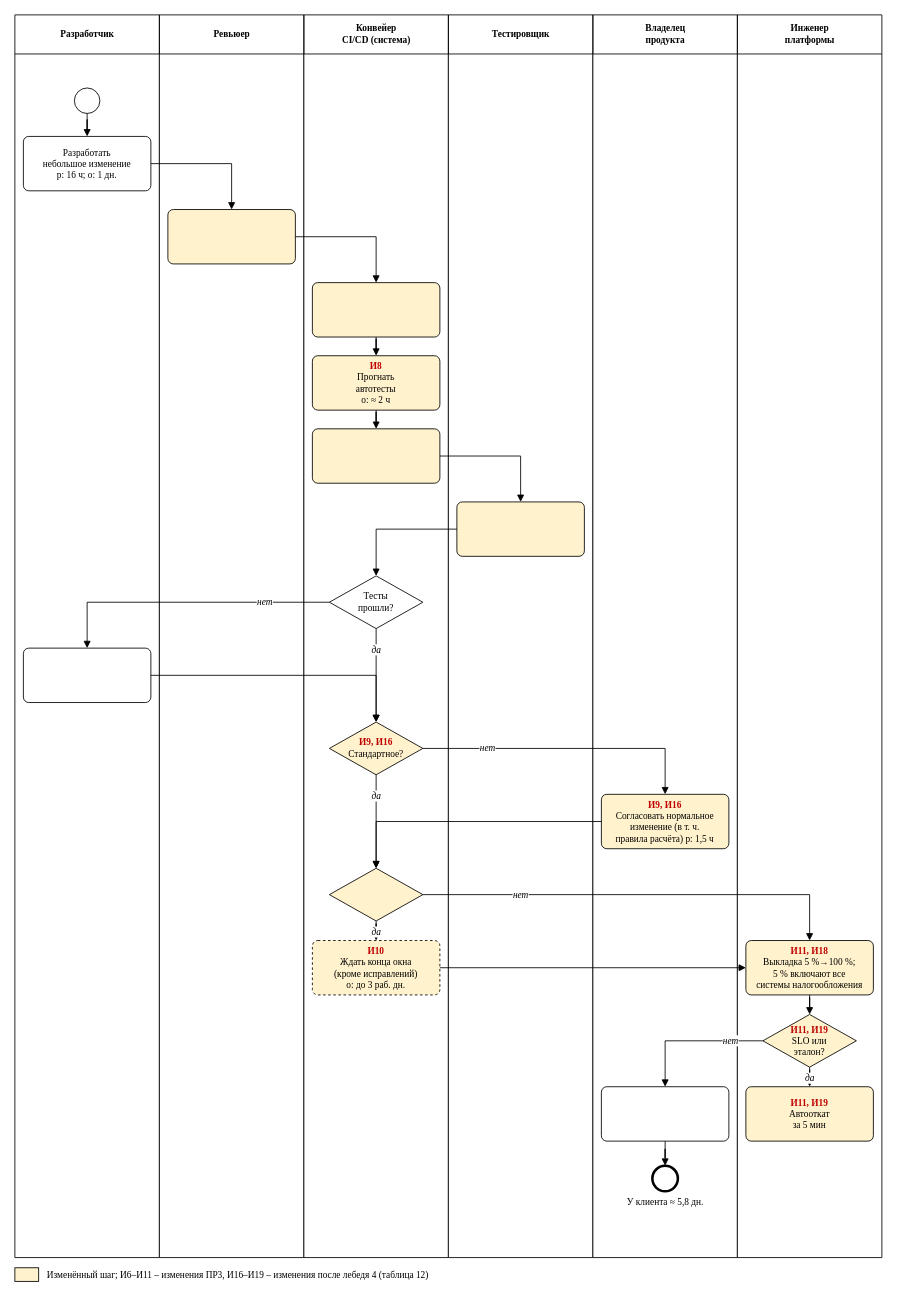
Some shapes in this 897 by 1301 pixel diagram are drawn without their labels. The shapes that lost their labels are listed below. From the top down, each one's centre as x and y in pixels, then its label:
(87,100): Задача готова
(231,236): И6 Код-ревью с лимитом задач р: 1 ч; о: 1 дн.
(376,309): И7 Поднять стенд автоматически р: 0; о: 0
(376,455): И17 Эталонные расчёты по всем системам налогообложения
(520,528): И8 Разобрать результаты, поддержать тесты р: 2,5 ч
(87,675): Исправить р: 3 ч; о: 0,5 дн.
(376,894): И10 Окно сдачи?
(665,1113): Проверить у клиента р: 0,5 ч
